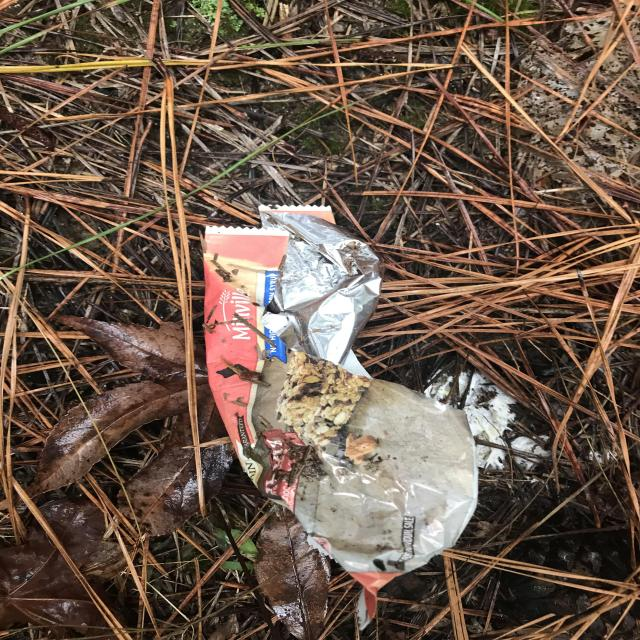litter: (204, 206, 475, 625)
